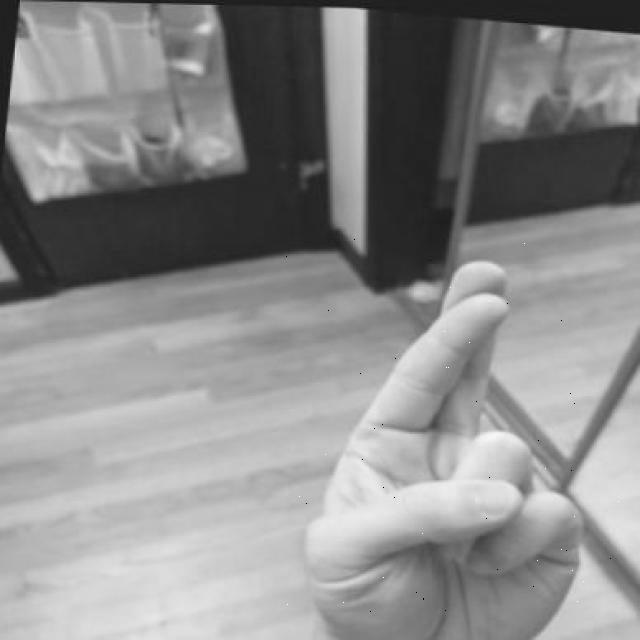R: (282, 238, 625, 639)
